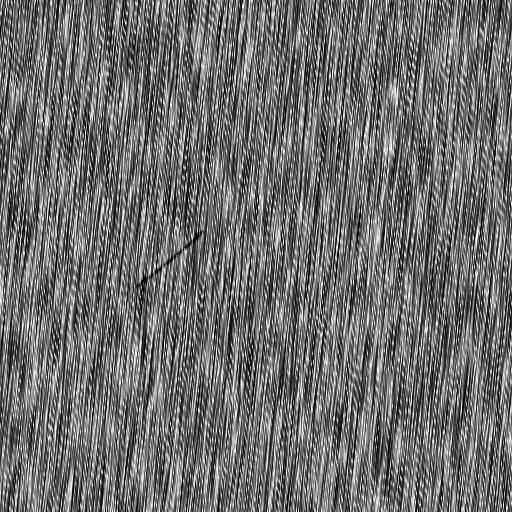DefectTypeC: (139, 232, 204, 286)
